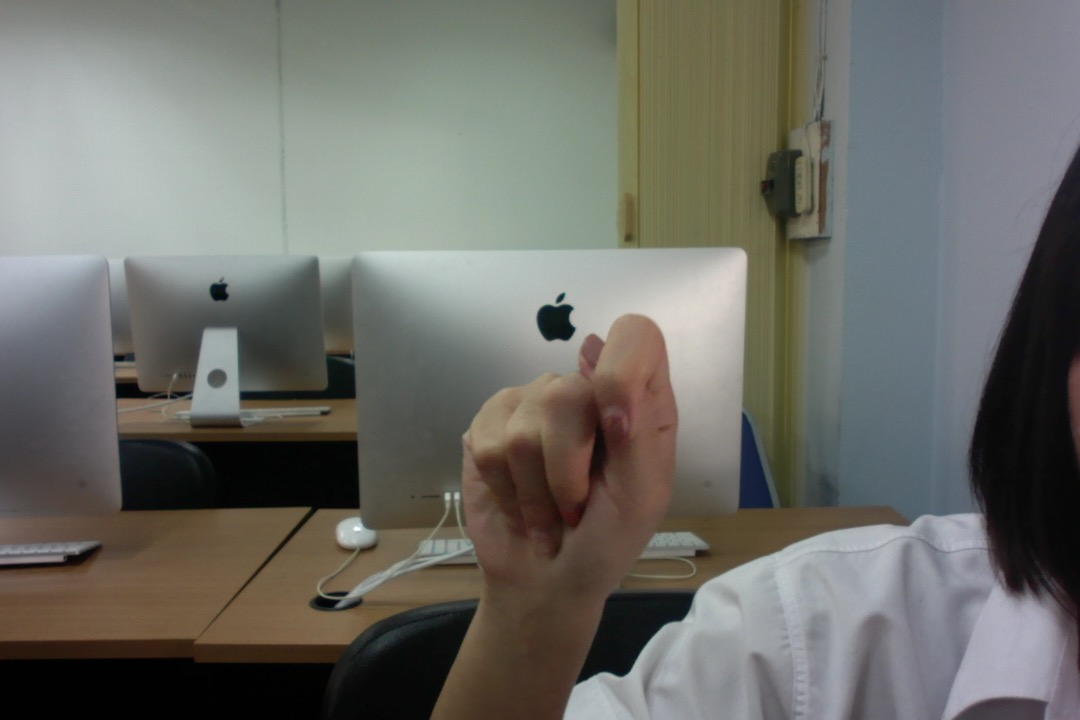dor: (450, 307, 687, 604)
